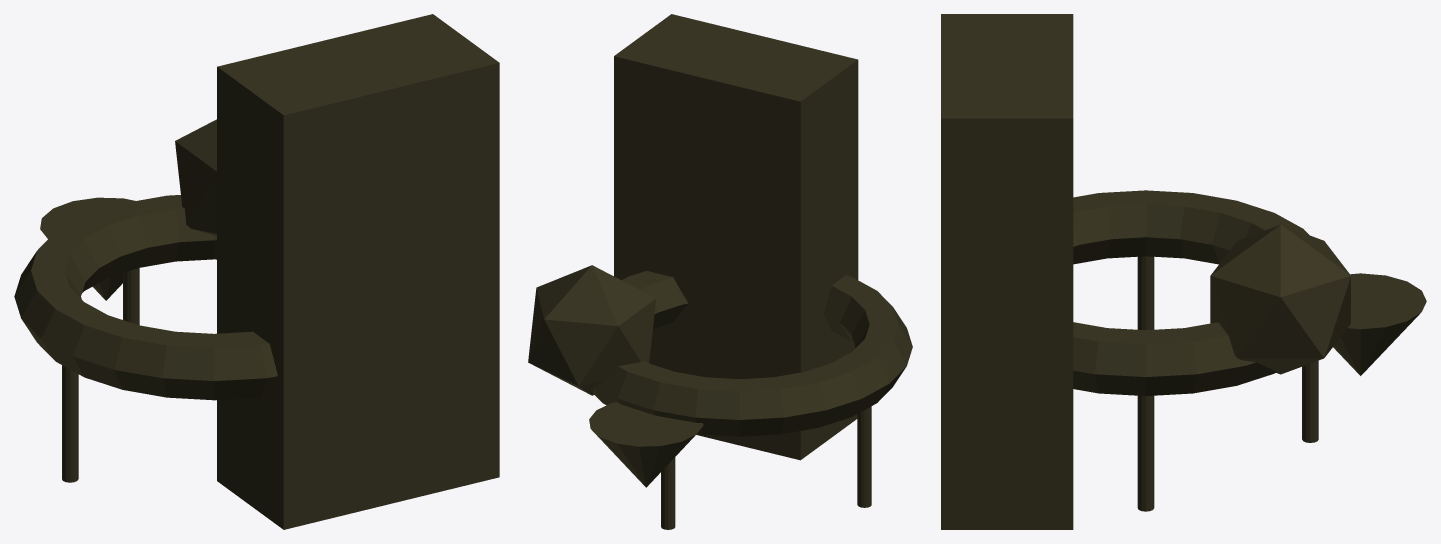
3 renders of one model, left to right at view 1: azimuth 30°, elevation 25°; view 2: azimuth 150°, elevation 25°; view 3: azimuth 270°, elevation 25°, orthographic. The views are drawn at different scales.
Visible parts, largest first — view 1: Cone; view 2: Cone; view 3: Cone.
Boxes of the visible parts, <box> form: Cone: <box>14,14,499,529</box>; Cone: <box>528,14,912,529</box>; Cone: <box>941,14,1426,529</box>.
Size of the model in its own units: 24.62 by 27.44 by 29.36.
